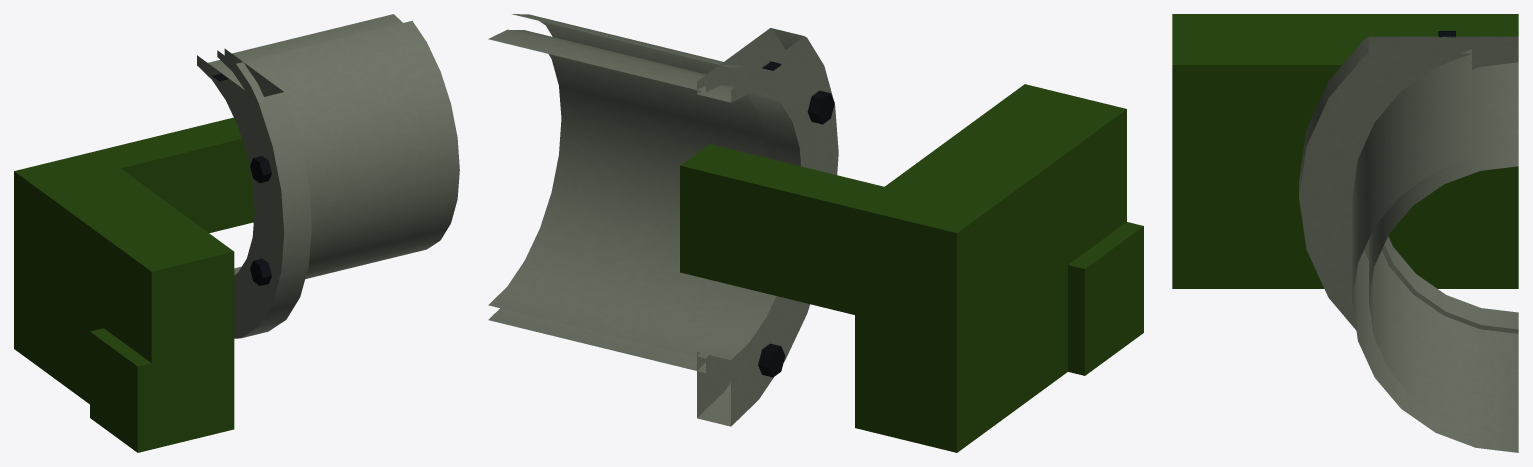
Rendered from cell_4.obj.
3 views of the same model, side by side, from view 1: azimuth 30°, elevation 25°; view 2: azimuth 150°, elevation 25°; view 3: azimuth 270°, elevation 25° (orthographic). The views are drawn at different scales.
Parts seen in each view (by area): view 1: cell_4; view 2: cell_4; view 3: cell_4.
Boxes of the visible parts, x1,y1,x2,y2 form: cell_4: [14, 14, 459, 452]; cell_4: [488, 14, 1143, 452]; cell_4: [1172, 14, 1518, 452].
Bounding box in the file's own units: 1 × 0.6617 × 0.605.
